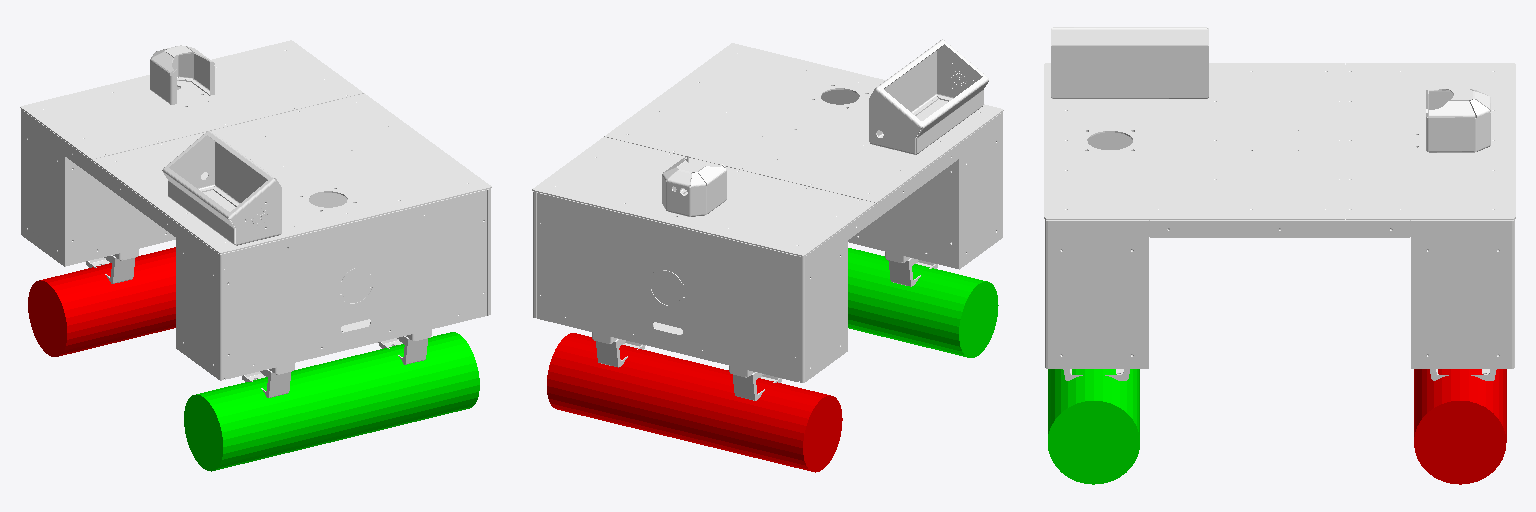
robot.urdf — antworker:
<?xml version="1.0"?>
<robot name="antworker">
        
  <!-- Colors -->
  <material name="red">
      <color rgba="1.0 0.0 0.0 1"/>
  </material>

  <material name="green">
      <color rgba="0.0 1.0 0.0 1"/>
  </material>

  <material name="blue">
      <color rgba="0.0 0.0 1.0 1"/>
  </material>

  <material name="yellow">
      <color rgba="1.0 1.0 0.0 1"/>
  </material>

  <material name="black">
      <color rgba="0.0 0.0 0.0 1"/>
  </material>

  <material name="white">
      <color rgba="1.0 1.0 1.0 1"/>
  </material>

  <!-- Links and Joints -->
  <!-- ========================= -->

  <!-- Base -->
  <link name="base_link"></link>

  <!-- Chassis -->
  <link name="chassis_link">
    <visual>
      <geometry>
        <mesh filename="package://antworker_description/description/base/meshes/antworker_chassis.dae" scale="1.0 1.0 1.0"/>
      </geometry>
      <material name="white"/>
    </visual>

    <collision>
      <geometry>
        <mesh filename="package://antworker_description/description/base/meshes/antworker_chassis_collision.stl" scale="1.0 1.0 1.0"/>
      </geometry>
    </collision>

    <inertial>
      <mass value="10"/>
      <inertia ixx="0.62216" ixy="0"        ixz="0" 
                             iyy="0.95216"  iyz="0" 
                                            izz="1.37016"/>
    </inertial>
  </link>

  <joint name="base_link_joint" type="fixed">
    <origin rpy="0 0 0" xyz="0 0 0" />
    <parent link="base_link" />
    <child link="chassis_link" />
  </joint>

  <!-- Front Wheel -->
  <link name="front_wheel_link">      
    <visual>
      <origin rpy="0 1.5707 0" xyz="0 0 0"/>
      <geometry>
        <cylinder length="0.75" radius="0.1"/>
      </geometry>
      <material name="red"/>
    </visual>

    <collision>
      <origin rpy="0 1.5707 0" xyz="0 0 0"/>
      <geometry>
        <cylinder length="0.75" radius="0.1"/>
      </geometry>
    </collision>

    <inertial>
    <mass value="10"/>
    <inertia ixx="0.09875"  ixy="0"       ixz="0" 
                            iyy="0.09875" iyz="0" 
                                          izz="0.01"/>
    </inertial>
  </link>

  <joint name="front_wheel_joint" type="continuous">
    <parent link="chassis_link"/>
    <child link="front_wheel_link"/>
    <origin rpy="0 0 0" xyz="0 0.395 -0.420"/>
    <axis rpy="0 0 0" xyz="1 0 0"/>
    <limit effort="10" velocity="2"/>
    <dynamics damping="0.01" friction="0.01"/>
  </joint>

  <!-- Rear Wheel -->
  <link name="rear_wheel_link">      
    <visual>
      <origin rpy="0 1.5707 0" xyz="0 0 0"/>
      <geometry>
        <cylinder length="0.75" radius="0.1"/>
      </geometry>
      <material name="green"/>
    </visual>

    <collision>
      <origin rpy="0 1.5707 0" xyz="0 0 0"/>
      <geometry>
        <cylinder length="0.75" radius="0.1"/>
      </geometry>
    </collision>

    <inertial>
      <mass value="10"/>
      <inertia ixx="0.09875"  ixy="0"       ixz="0" 
                              iyy="0.09875" iyz="0"
                                            izz="0.01"/>
    </inertial>
  </link>

  <joint name="rear_wheel_joint" type="continuous">
    <parent link="chassis_link"/>
    <child link="rear_wheel_link"/>
    <origin rpy="0 0 0" xyz="0 -0.395 -0.420"/>
    <axis rpy="0 0 0" xyz="1 0 0"/>
    <limit effort="10" velocity="2"/>
    <dynamics damping="0.01" friction="0.01"/>
  </joint>


</robot>

--- What the picture shows (computed from the rendered views, not written in the file) ---
The picture shows the robot from 3 angles, left to right: view 1: azimuth 30°, elevation 25°; view 2: azimuth 150°, elevation 25°; view 3: azimuth 270°, elevation 25°; orthographic projection.
Robot: antworker — 4 links, 3 joints (2 continuous, 1 fixed); root link base_link; default pose: all joints at 0.
Visible links, largest first — view 1: chassis_link, rear_wheel_link, front_wheel_link; view 2: chassis_link, front_wheel_link, rear_wheel_link; view 3: chassis_link, front_wheel_link, rear_wheel_link.
Link boxes in pixels (x1=…): chassis_link: x1=20, y1=40, x2=491, y2=397; rear_wheel_link: x1=184, y1=332, x2=479, y2=471; front_wheel_link: x1=28, y1=247, x2=175, y2=356; chassis_link: x1=532, y1=39, x2=1003, y2=400; front_wheel_link: x1=547, y1=333, x2=842, y2=472; rear_wheel_link: x1=848, y1=248, x2=998, y2=357; chassis_link: x1=1044, y1=27, x2=1515, y2=380; front_wheel_link: x1=1414, y1=369, x2=1506, y2=484; rear_wheel_link: x1=1048, y1=369, x2=1139, y2=484.
Size in the robot's own frame: 0.796 by 1.02 by 0.8108 metres.
1 mesh visuals loaded from 1 distinct referenced files (1 Collada DAE).